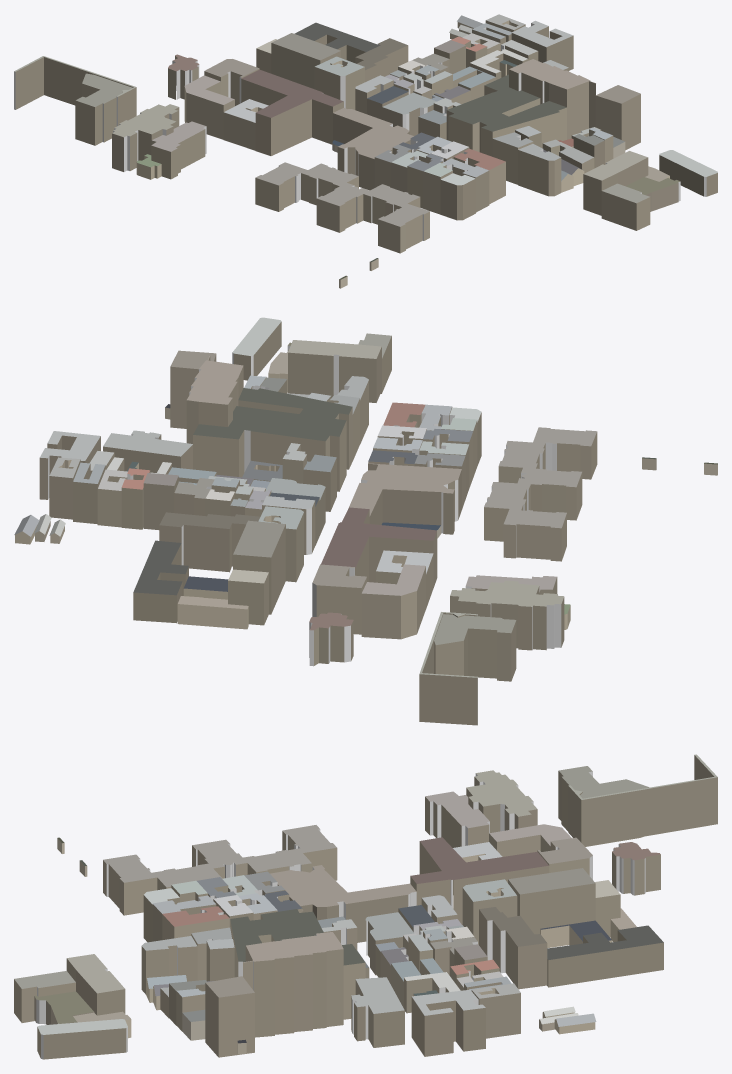
3 renders of one model, top to bottom at view 1: azimuth 30°, elevation 25°; view 2: azimuth 150°, elevation 25°; view 3: azimuth 270°, elevation 25°, orthographic. The views are drawn at different scales.
Parts seen in each view (by area): view 1: tuile; view 2: tuile; view 3: tuile.
Part boxes in pixels (box(x1,y1,x2,y2)): tuile: box(14, 14, 717, 288); tuile: box(14, 317, 717, 725); tuile: box(14, 754, 717, 1059).
Size of the model in its own units: 262 by 38.56 by 288.
